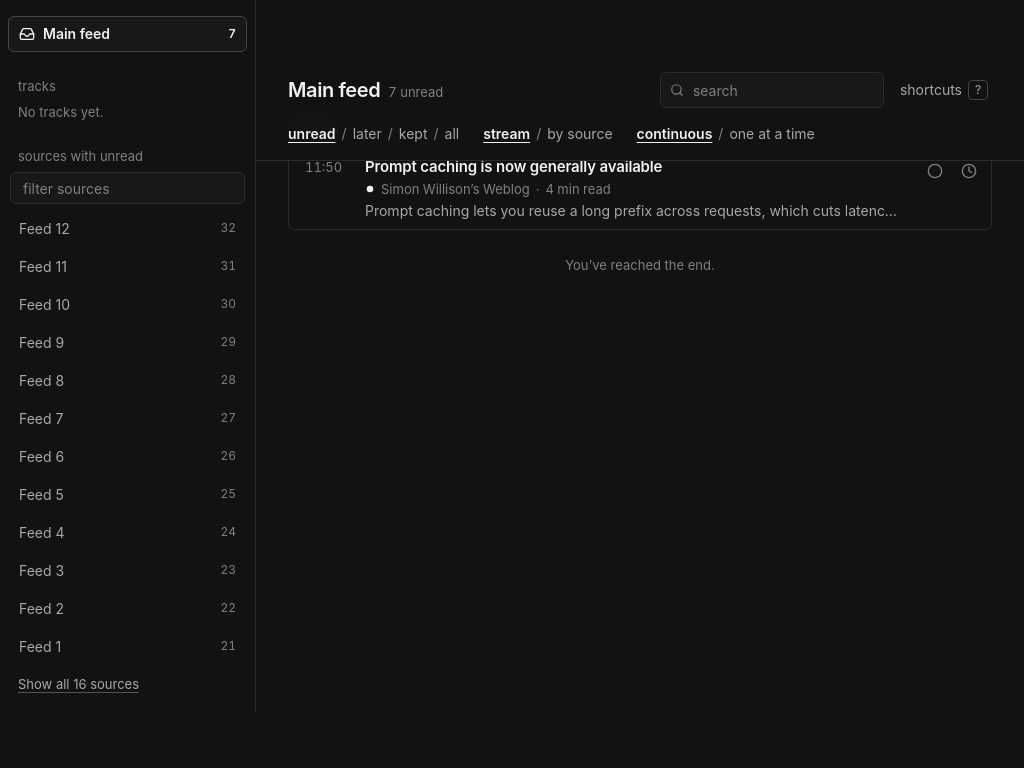
Test case: ReaderNavRail › source filter › expands the full list inline, all sources, still filterable
The image size is (1024, 768).
Expected: the link "Feed 12 32" is shown, left=8, top=210, right=247, bottom=246
Expected: the link "The Kaitchup" is not shown
Click the button "Show all 16 sources". click: (128, 684)
box: left=8, top=666, right=247, bottom=702
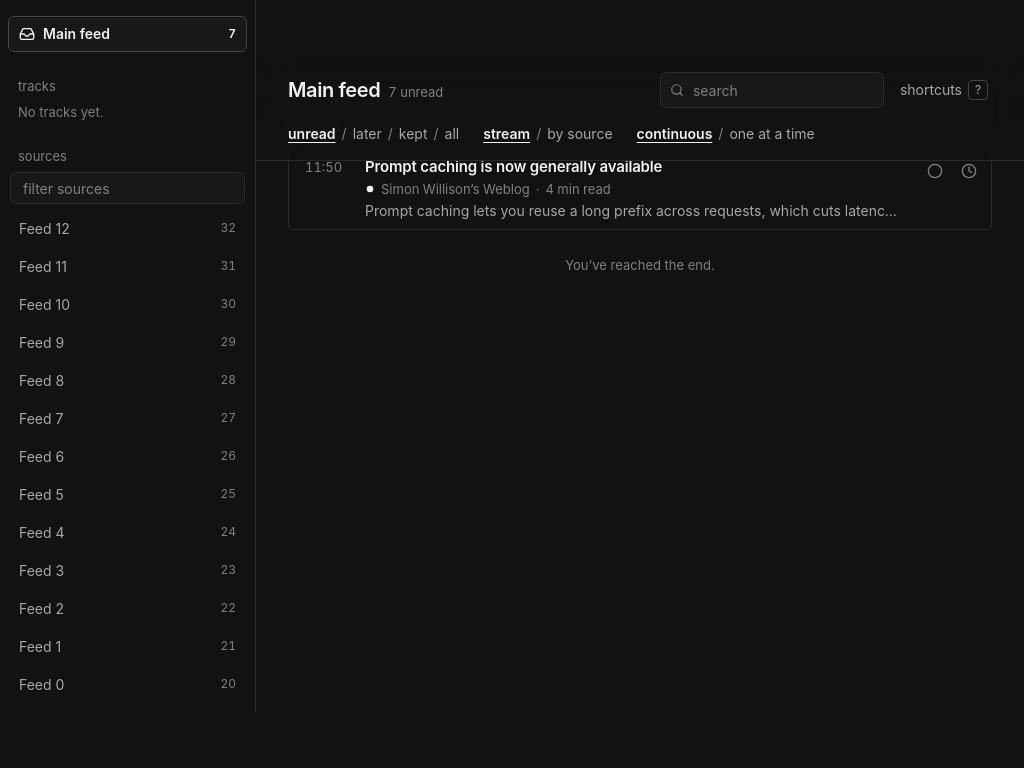
Type "feed 1" into the field labelled "filter sources". click: (128, 188)
box: left=10, top=172, right=245, bottom=204
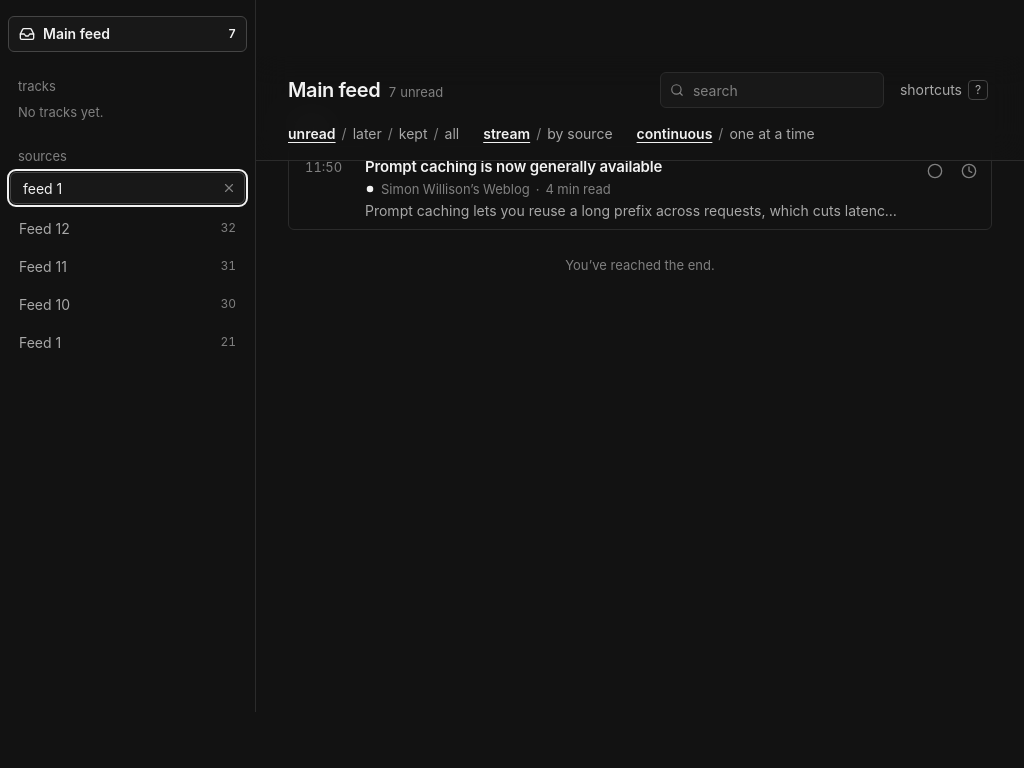
Clear the field named "filter sources". click: (128, 188)
box: left=10, top=172, right=245, bottom=204
(page scrolled)
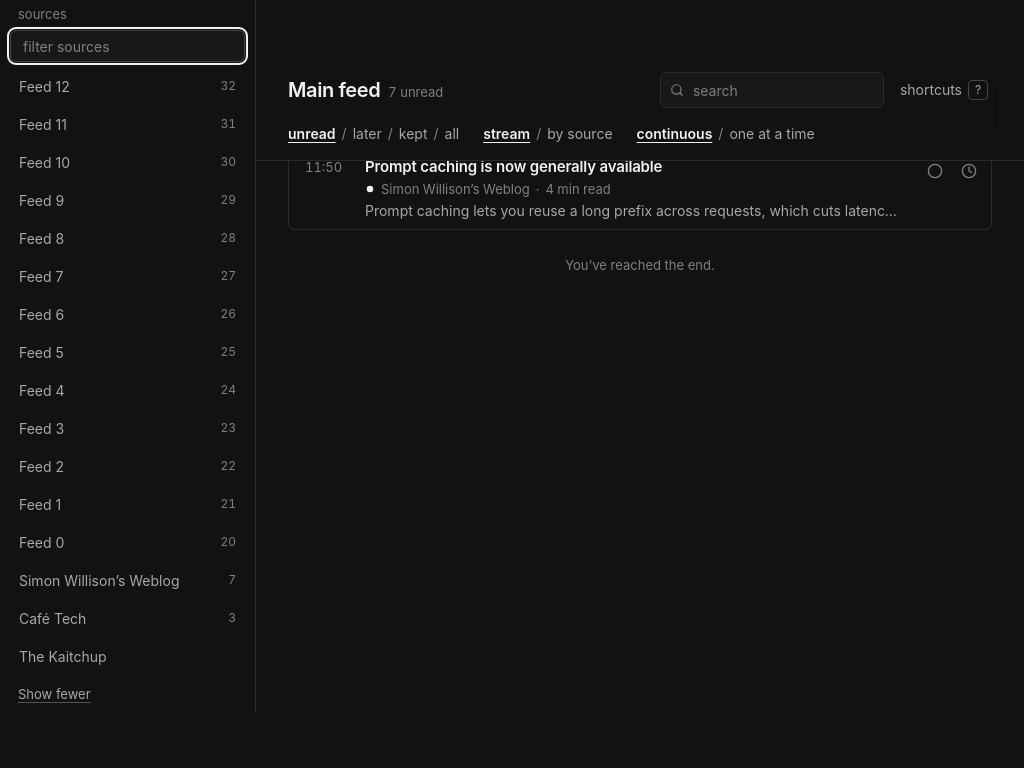
Click the button "Show fewer". click: (128, 694)
box: left=8, top=676, right=247, bottom=712
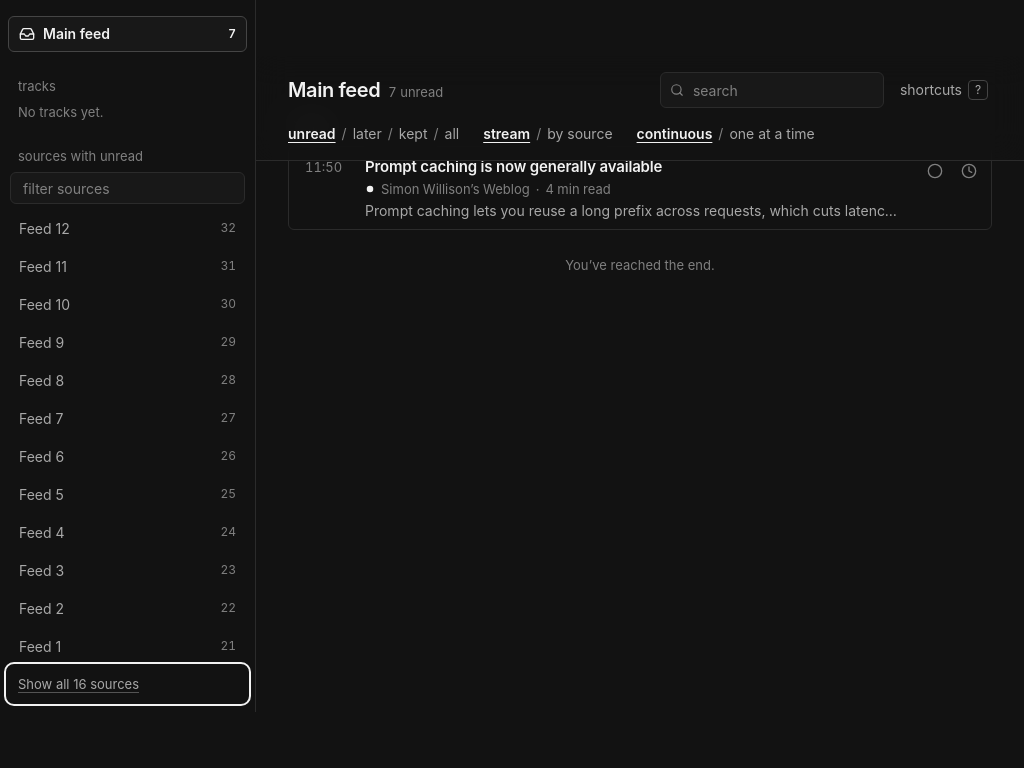
Expected: the number of links "Feed 12 32" is 12
